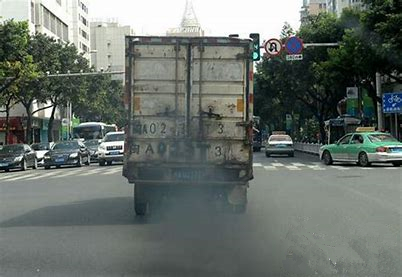smoke: (142, 162, 273, 277)
